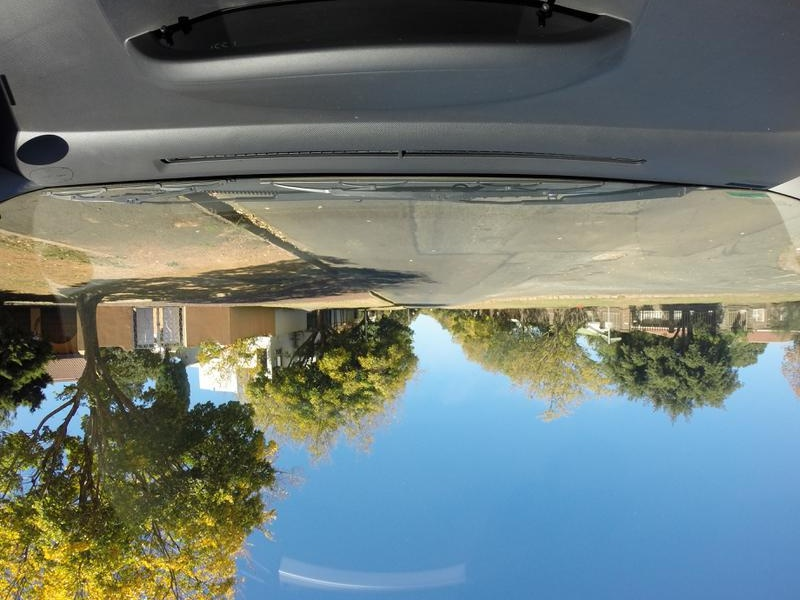pothole: (586, 243, 651, 266)
